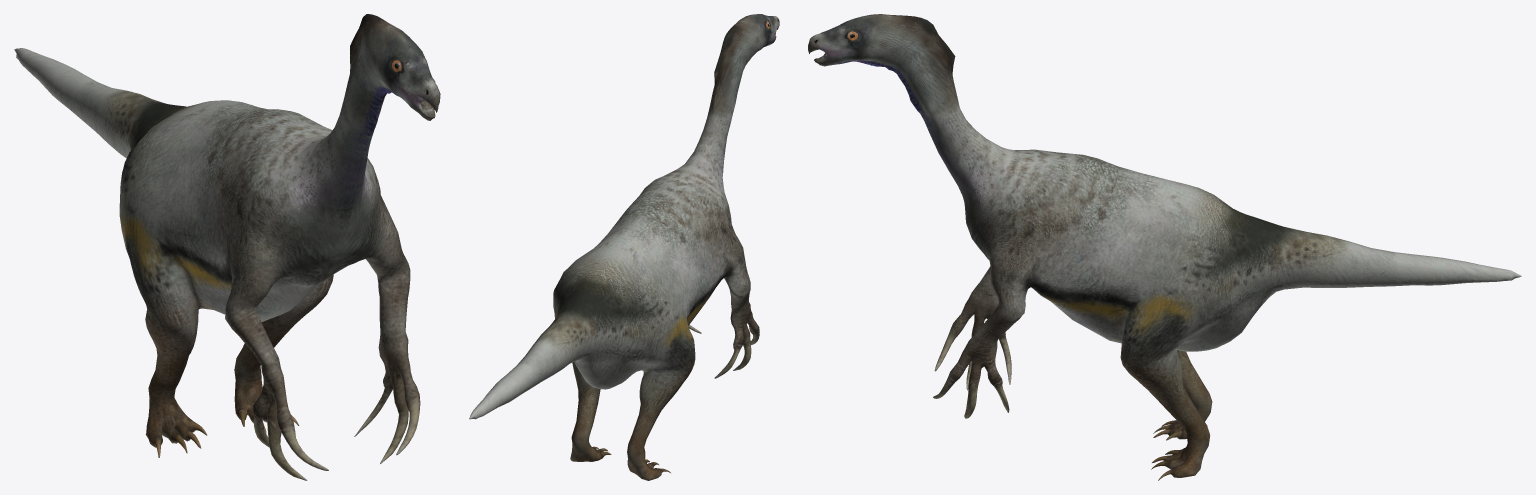
The model's file is Therizinosaurus.glb.
The picture shows the model from 3 angles, left to right: view 1: azimuth 30°, elevation 25°; view 2: azimuth 150°, elevation 25°; view 3: azimuth 270°, elevation 25°; orthographic projection. The views are drawn at different scales.
Parts seen in each view (by area): view 1: mapped; view 2: mapped; view 3: mapped.
Part boxes in pixels (box(x1,y1,x2,y2)): mapped: box(14, 14, 440, 480); mapped: box(469, 14, 779, 480); mapped: box(808, 14, 1521, 480).
Size of the model in its own units: 1.26 by 3.5 by 5.19.
1 material, 1 textured.
